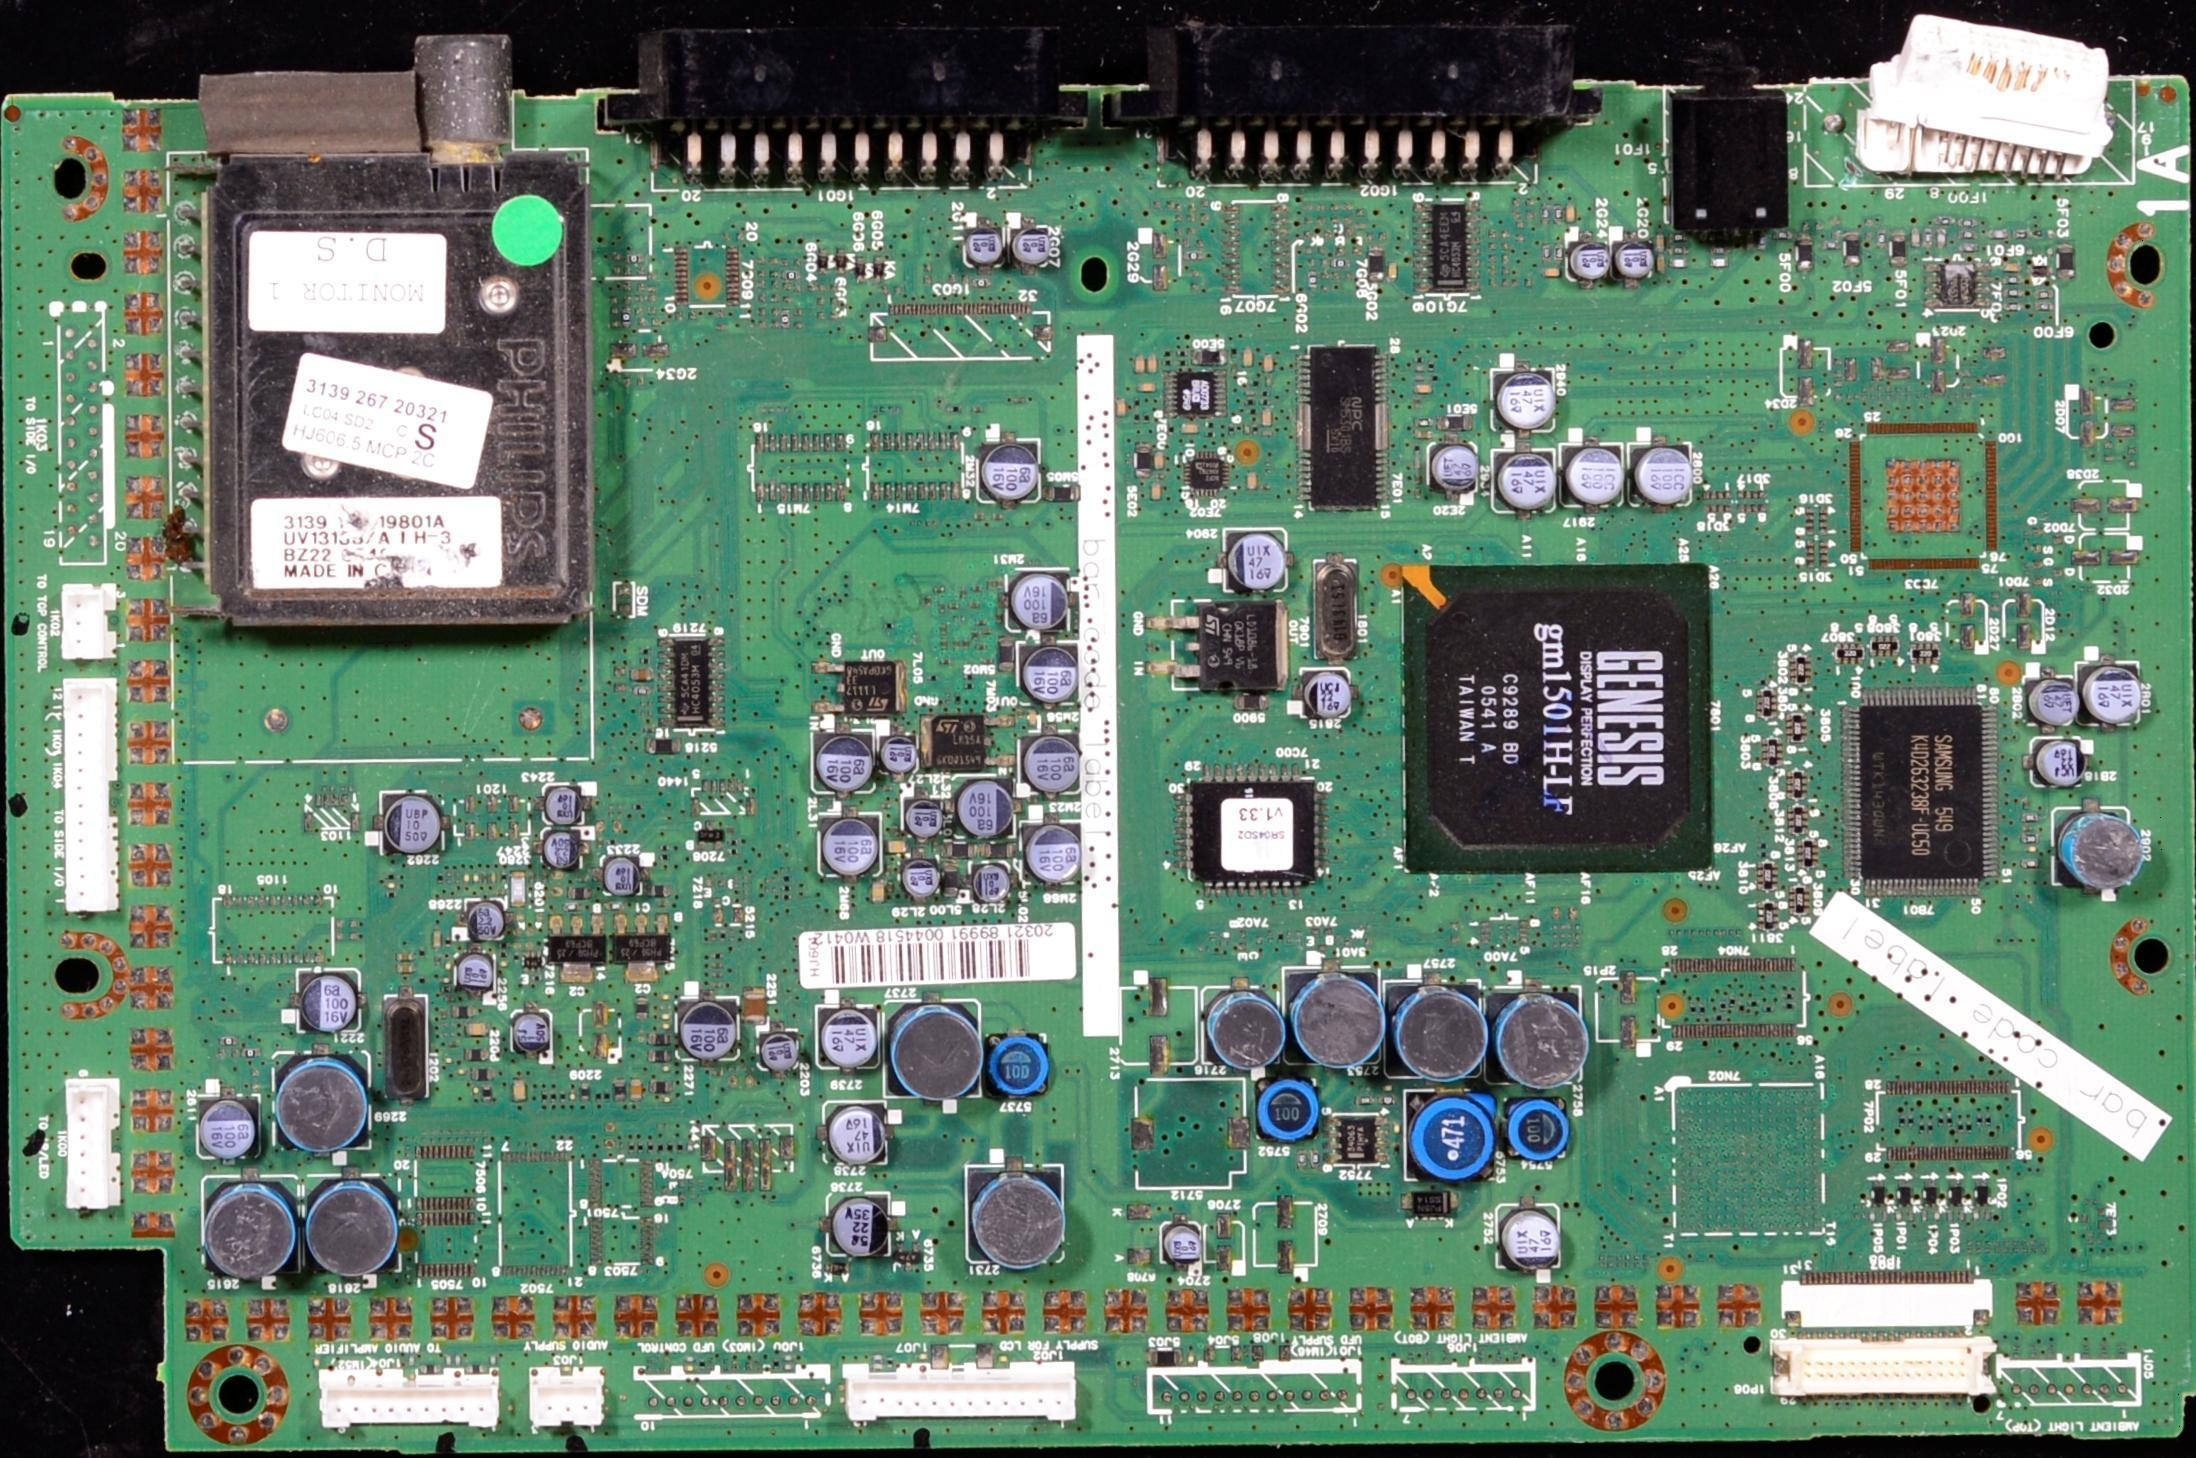Capacitor: (1017, 719, 1116, 798), (1473, 369, 1563, 440), (1630, 443, 1693, 538), (821, 816, 883, 899), (1021, 645, 1105, 705), (1024, 818, 1092, 894), (201, 1090, 266, 1159), (299, 973, 367, 1036), (1007, 572, 1075, 637), (382, 793, 451, 854), (1559, 439, 1614, 515), (815, 1001, 878, 1063), (2089, 654, 2146, 722), (1226, 530, 1289, 593), (969, 863, 1034, 921), (2017, 735, 2081, 792), (1504, 450, 1548, 530), (820, 1009, 875, 1062), (2031, 670, 2084, 722), (821, 732, 874, 784), (833, 1111, 884, 1165), (833, 1201, 884, 1253), (683, 1004, 732, 1055), (956, 786, 1005, 837), (204, 1101, 250, 1154), (681, 1000, 726, 1054), (1304, 668, 1344, 724), (1433, 439, 1479, 487), (537, 789, 588, 832), (753, 1033, 805, 1074), (598, 862, 642, 907), (902, 855, 936, 906), (519, 1010, 553, 1057), (899, 795, 940, 835), (450, 959, 493, 995), (463, 905, 507, 939), (881, 729, 908, 774), (548, 832, 576, 870), (763, 1035, 792, 1069), (465, 1022, 491, 1040), (512, 1080, 529, 1107), (1179, 422, 1203, 437), (1133, 352, 1147, 377), (1146, 352, 1160, 377), (1259, 407, 1274, 429), (432, 928, 445, 951), (1262, 354, 1277, 375), (1114, 398, 1129, 418), (1150, 482, 1164, 501), (630, 1080, 643, 1101), (394, 965, 417, 976), (1153, 450, 1166, 471), (1246, 471, 1259, 490), (1997, 260, 2018, 271), (1411, 384, 1432, 396), (1243, 346, 1252, 370), (1135, 384, 1156, 394), (1538, 268, 1562, 277), (1390, 261, 1399, 282), (393, 952, 413, 960), (1567, 204, 1575, 221)
Connector: (178, 16, 600, 633), (1112, 23, 1606, 183), (608, 23, 1089, 178), (1859, 2, 2126, 183), (1651, 49, 1806, 253)
IC: (1396, 565, 1715, 871), (1835, 676, 1996, 905), (1179, 758, 1332, 896), (1294, 342, 1390, 508), (659, 633, 734, 727), (1414, 195, 1478, 292), (1168, 373, 1228, 421), (1192, 452, 1241, 493)
